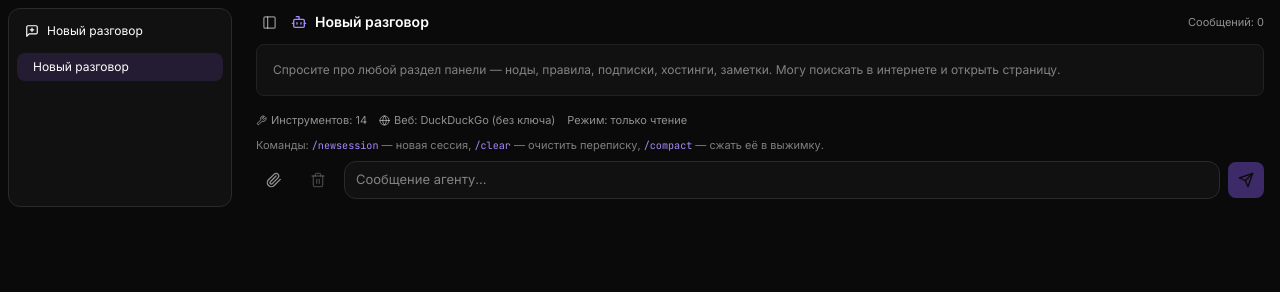
Test: AiChat › /clear empties the current session and keeps it in the list
This screenshot has width=1280, height=292.
Type "первый вопрос" into the field with placeholder "Сообщение агенту..." at (782,180), box [344,161,1220,198]
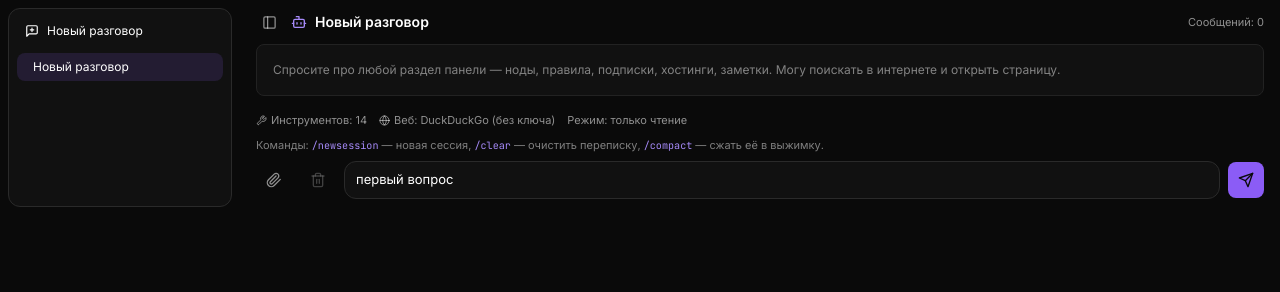
Press Enter in the field with placeholder "Сообщение агенту...", box [344,161,1220,198]
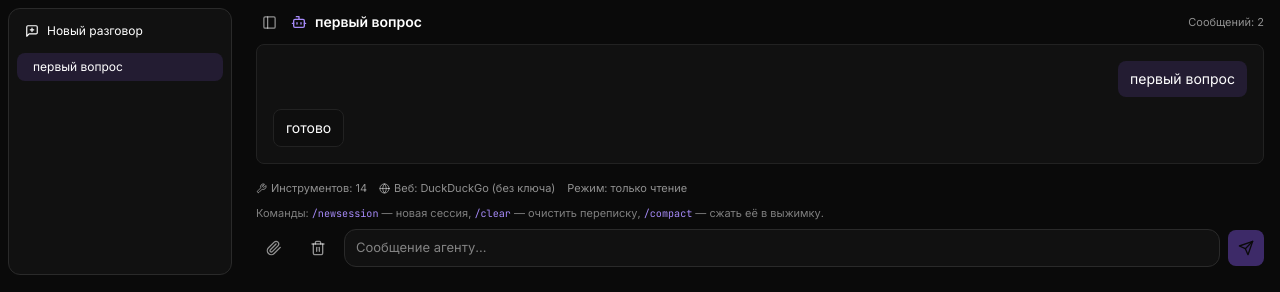
Expected: the button titled "Очистить" is enabled, [300,230,336,266]
Type "/clear" into the field with placeholder "Сообщение агенту..." at (782,248), box [344,229,1220,266]
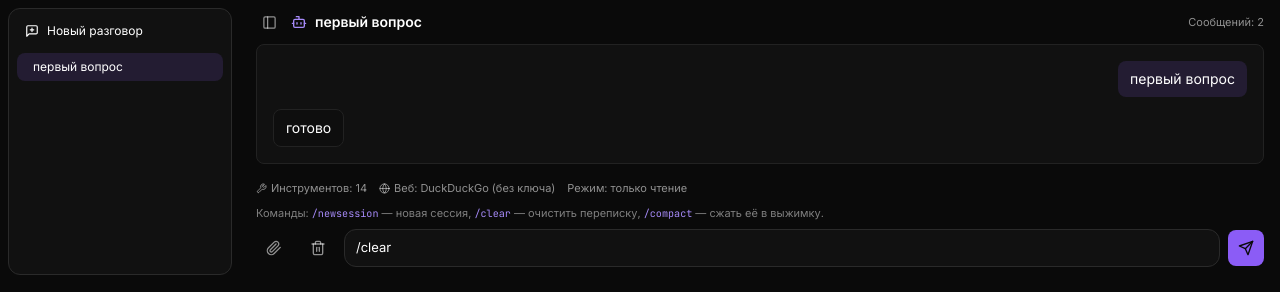
Press Enter in the field with placeholder "Сообщение агенту...", box [344,229,1220,266]
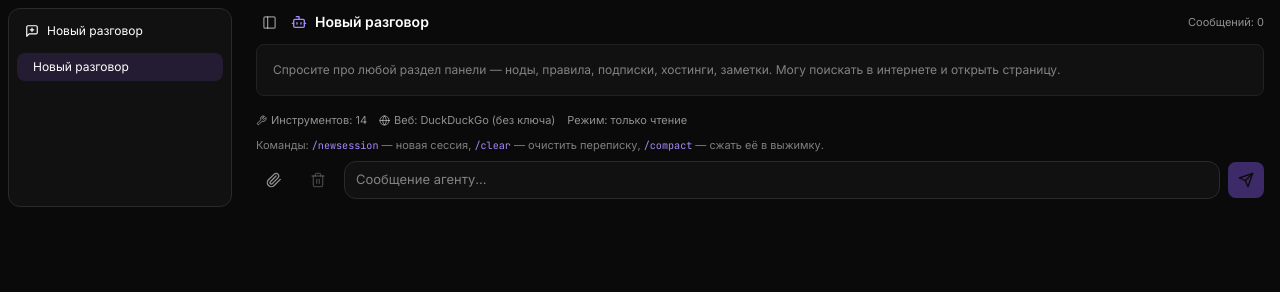
Expected: the number of buttons with test id "ai-session-row" is 1, [17,53,223,81]
Expected: the button "первый вопрос" is gone
